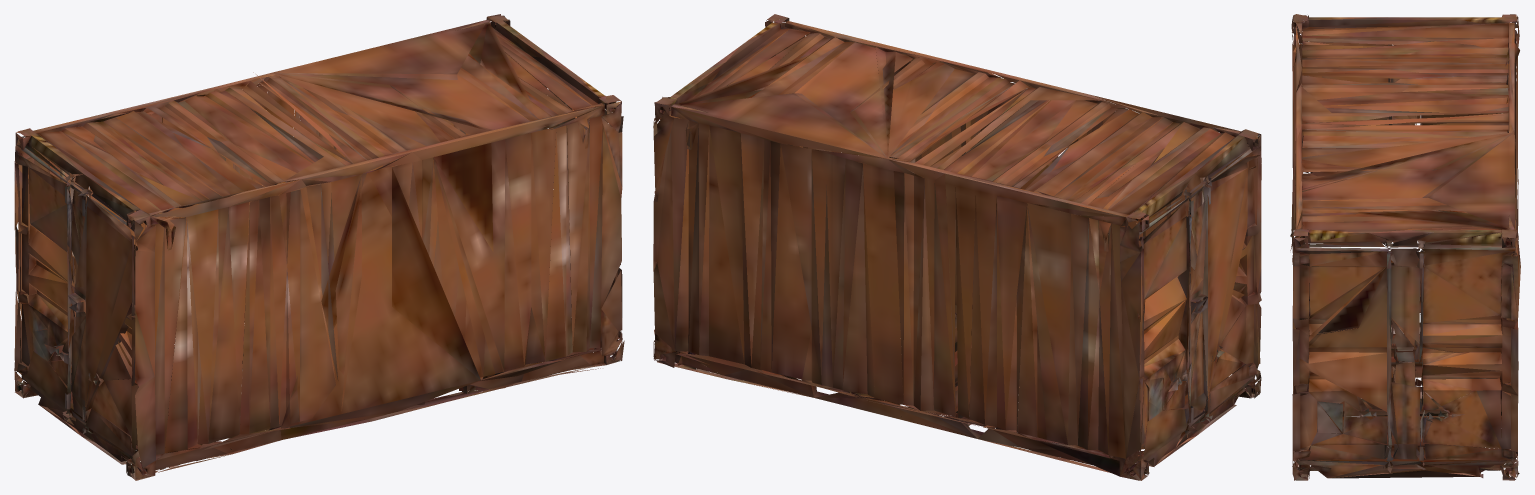
The model's file is container_orange.glb.
The picture shows the model from 3 angles, left to right: view 1: azimuth 30°, elevation 25°; view 2: azimuth 150°, elevation 25°; view 3: azimuth 270°, elevation 25°; orthographic projection. The views are drawn at different scales.
Visible parts, largest first — view 1: Mesh_0; view 2: Mesh_0; view 3: Mesh_0.
Boxes of the visible parts, left/top/right/bottom form: Mesh_0: left=14, top=14, right=624, bottom=480; Mesh_0: left=653, top=14, right=1261, bottom=480; Mesh_0: left=1290, top=14, right=1520, bottom=480.
Bounding box in the file's own units: 1.91 × 0.9941 × 0.8237.
Materials: 1 (1 with a texture image).
